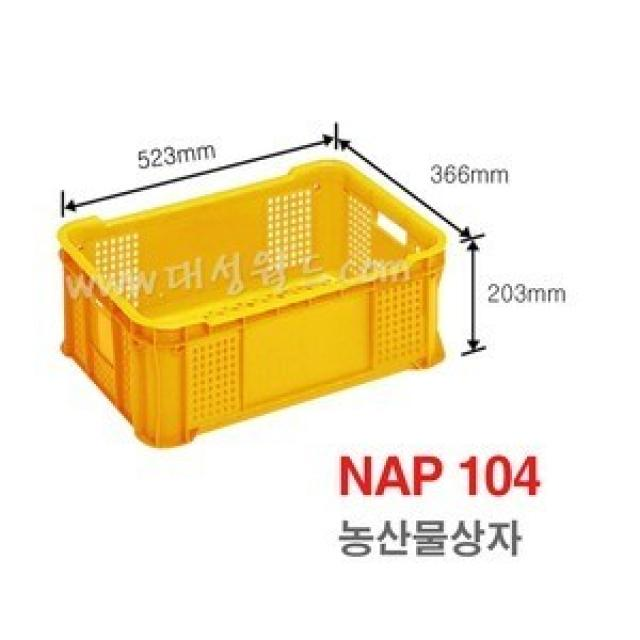basket: (27, 118, 482, 471)
